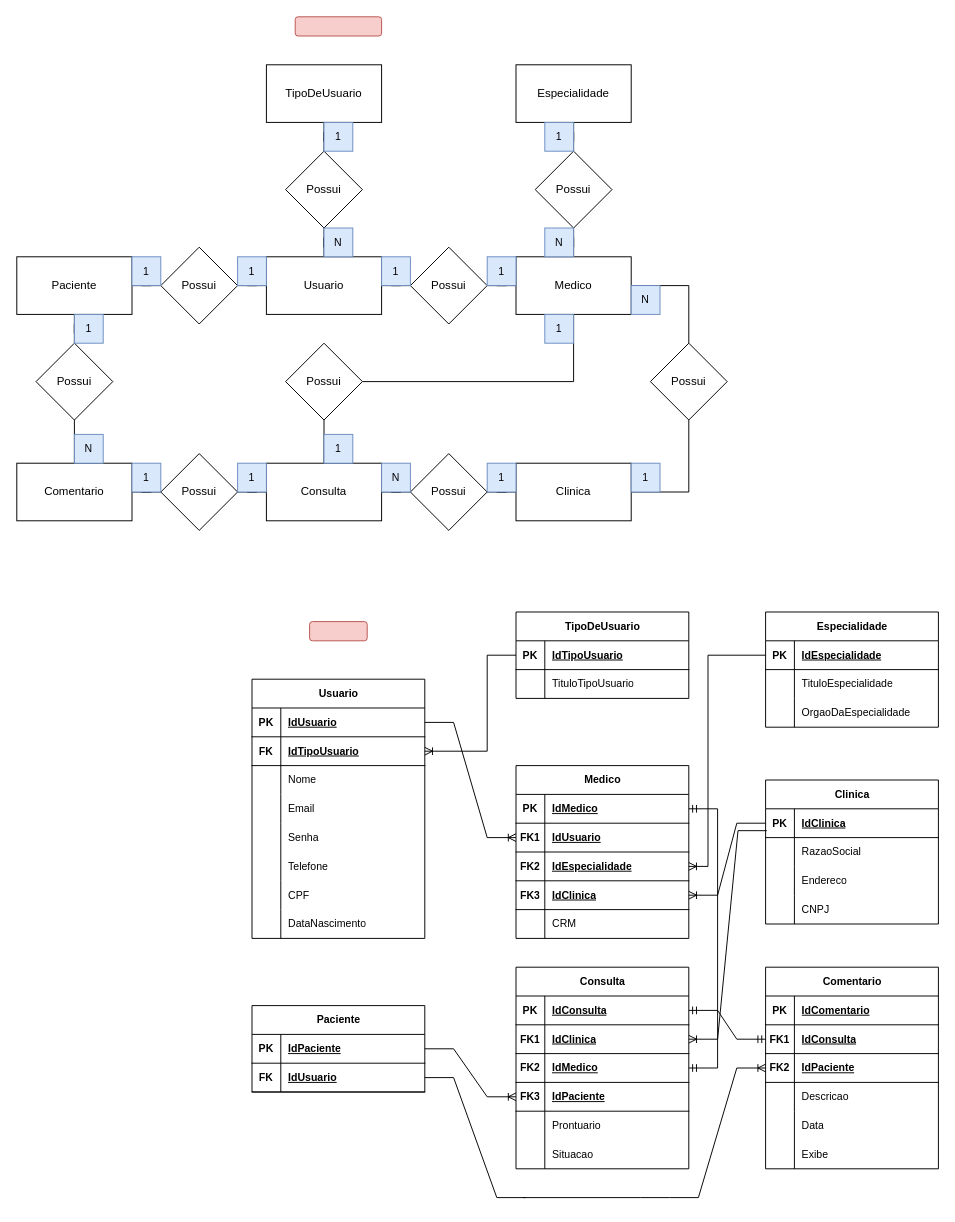
Some shapes in this 955 by 1222 pixel diagram are drawn without their labels. Here are the shapes that lost their labels. From the top down, the centre of each, then its label:
At [338,26]: "Conceitual".
At [338,631]: "Lógico".
